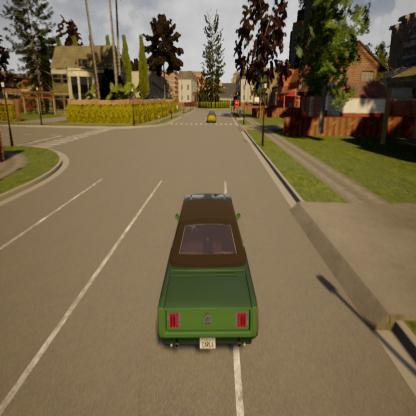Cars: (150, 187, 266, 358)
